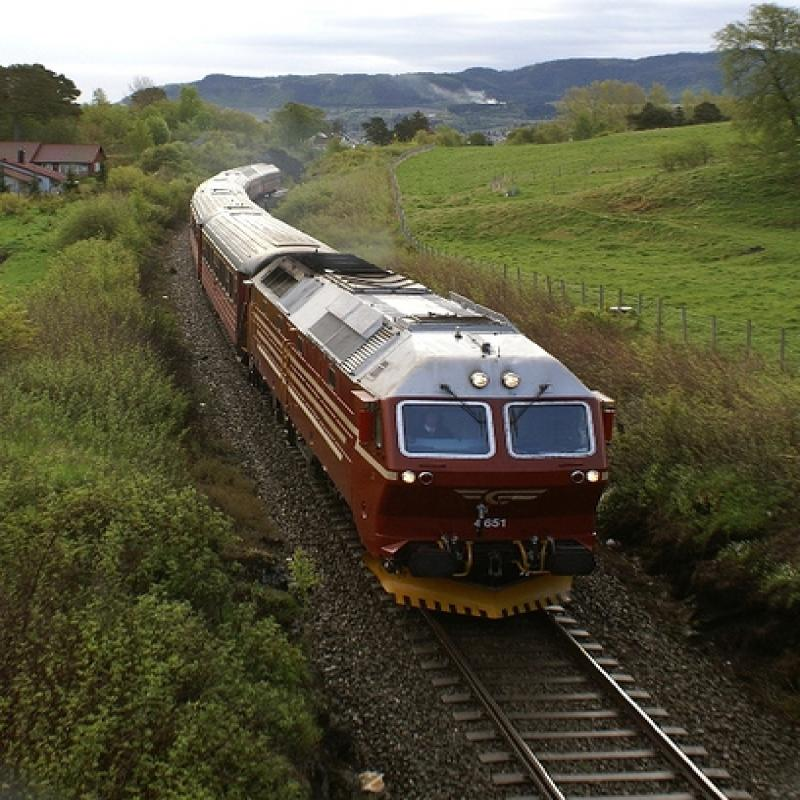train: (189, 161, 623, 623)
